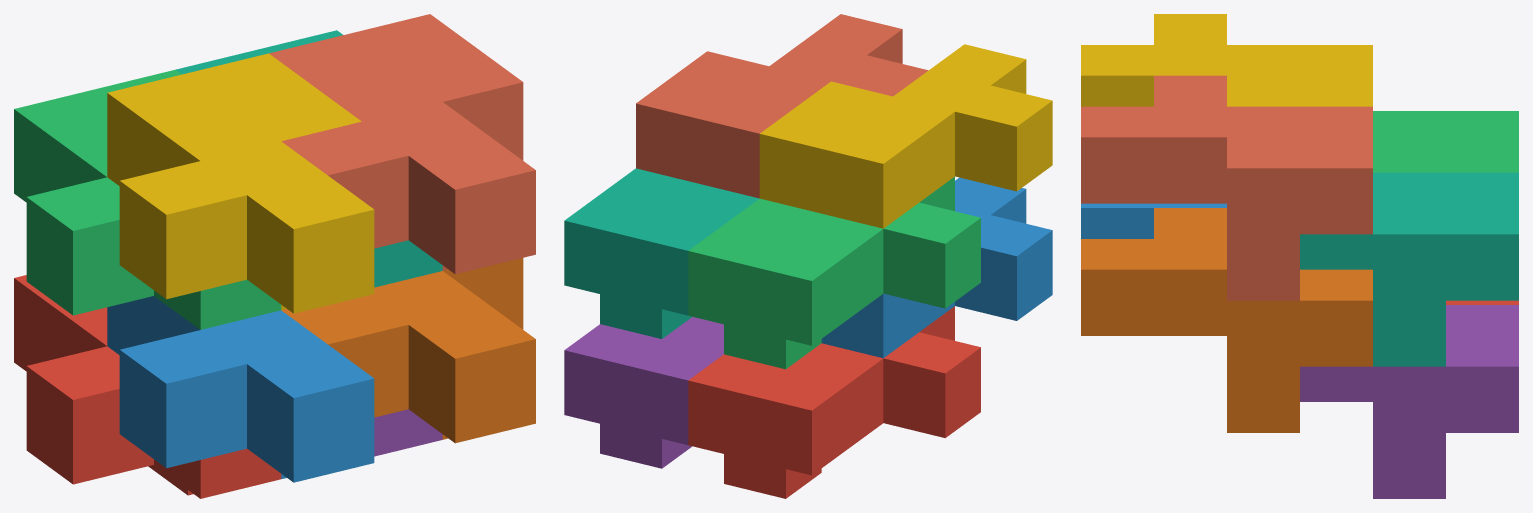
The model's file is tiling.obj.
The picture shows the model from 3 angles, left to right: view 1: azimuth 30°, elevation 25°; view 2: azimuth 150°, elevation 25°; view 3: azimuth 270°, elevation 25°; orthographic projection. The views are drawn at different scales.
Visible parts, largest first — view 1: copy_1_domain_4, copy_1_domain_8, copy_1_domain_2, copy_1_domain_6, copy_1_domain_3, copy_1_domain_1, copy_1_domain_7, copy_1_domain_5; view 2: copy_1_domain_4, copy_1_domain_3, copy_1_domain_1, copy_1_domain_8, copy_1_domain_7, copy_1_domain_5, copy_1_domain_2; view 3: copy_1_domain_8, copy_1_domain_6, copy_1_domain_7, copy_1_domain_5, copy_1_domain_4, copy_1_domain_3, copy_1_domain_2.
Boxes of the visible parts, x1,y1,x2,y2 form: copy_1_domain_4: (107, 53, 374, 313); copy_1_domain_8: (269, 14, 535, 274); copy_1_domain_2: (107, 296, 374, 482); copy_1_domain_6: (281, 258, 535, 443); copy_1_domain_3: (14, 69, 281, 329); copy_1_domain_1: (14, 275, 281, 498); copy_1_domain_7: (176, 30, 442, 287); copy_1_domain_5: (374, 409, 442, 456); copy_1_domain_4: (759, 44, 1052, 228); copy_1_domain_3: (688, 176, 980, 369); copy_1_domain_1: (688, 306, 980, 498); copy_1_domain_8: (636, 14, 928, 198); copy_1_domain_7: (564, 168, 759, 338); copy_1_domain_5: (564, 317, 723, 468); copy_1_domain_2: (821, 177, 1052, 358); copy_1_domain_8: (1081, 75, 1372, 300); copy_1_domain_6: (1081, 208, 1372, 432); copy_1_domain_7: (1300, 172, 1518, 366); copy_1_domain_5: (1300, 305, 1518, 498); copy_1_domain_4: (1081, 14, 1372, 106); copy_1_domain_3: (1373, 111, 1518, 172); copy_1_domain_2: (1081, 203, 1226, 238).
Bounding box in the file's own units: 5 × 5 × 6.
